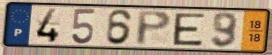4: (34, 7, 61, 44)
5: (70, 8, 97, 46)
6: (105, 9, 133, 47)
9: (210, 11, 238, 50)
E: (172, 12, 207, 47)
P: (135, 10, 174, 47)
